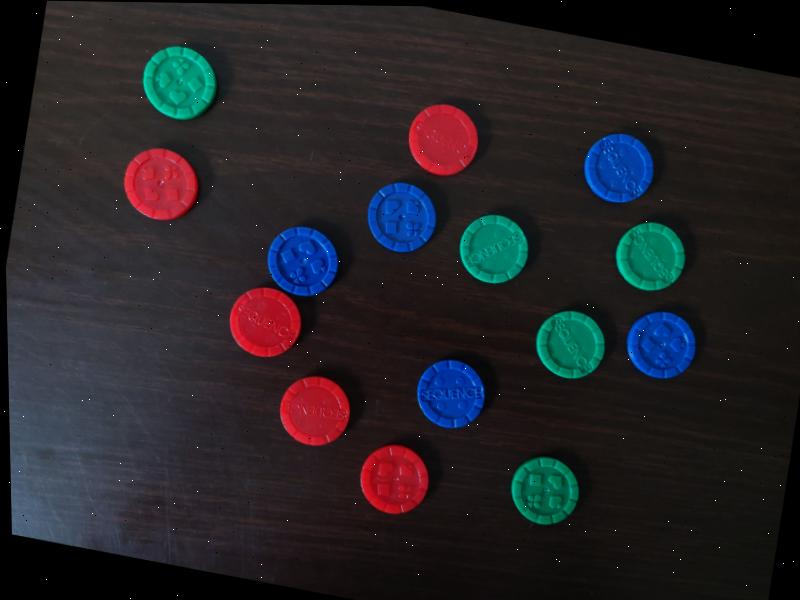Blue_Token: (568, 117, 674, 214), (251, 214, 352, 308), (612, 298, 714, 391), (355, 171, 452, 263), (404, 350, 499, 440)
Green_Token: (128, 31, 232, 134), (603, 207, 700, 306), (521, 299, 623, 392), (449, 201, 540, 296), (497, 445, 591, 535)
Red_Token: (106, 136, 215, 236), (265, 363, 368, 463), (344, 429, 448, 528), (389, 91, 497, 186), (217, 278, 313, 371)
